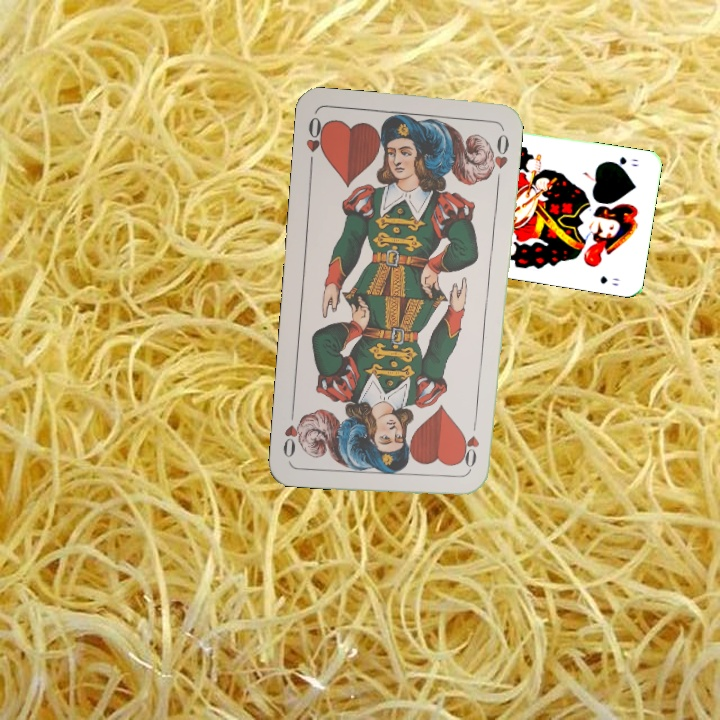GO: (605, 153, 642, 169)
HO: (302, 113, 328, 171), (462, 415, 482, 474)
